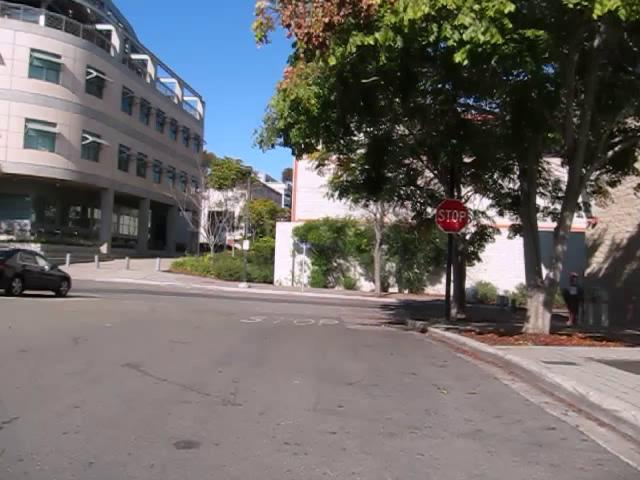stop: (434, 197, 469, 233)
